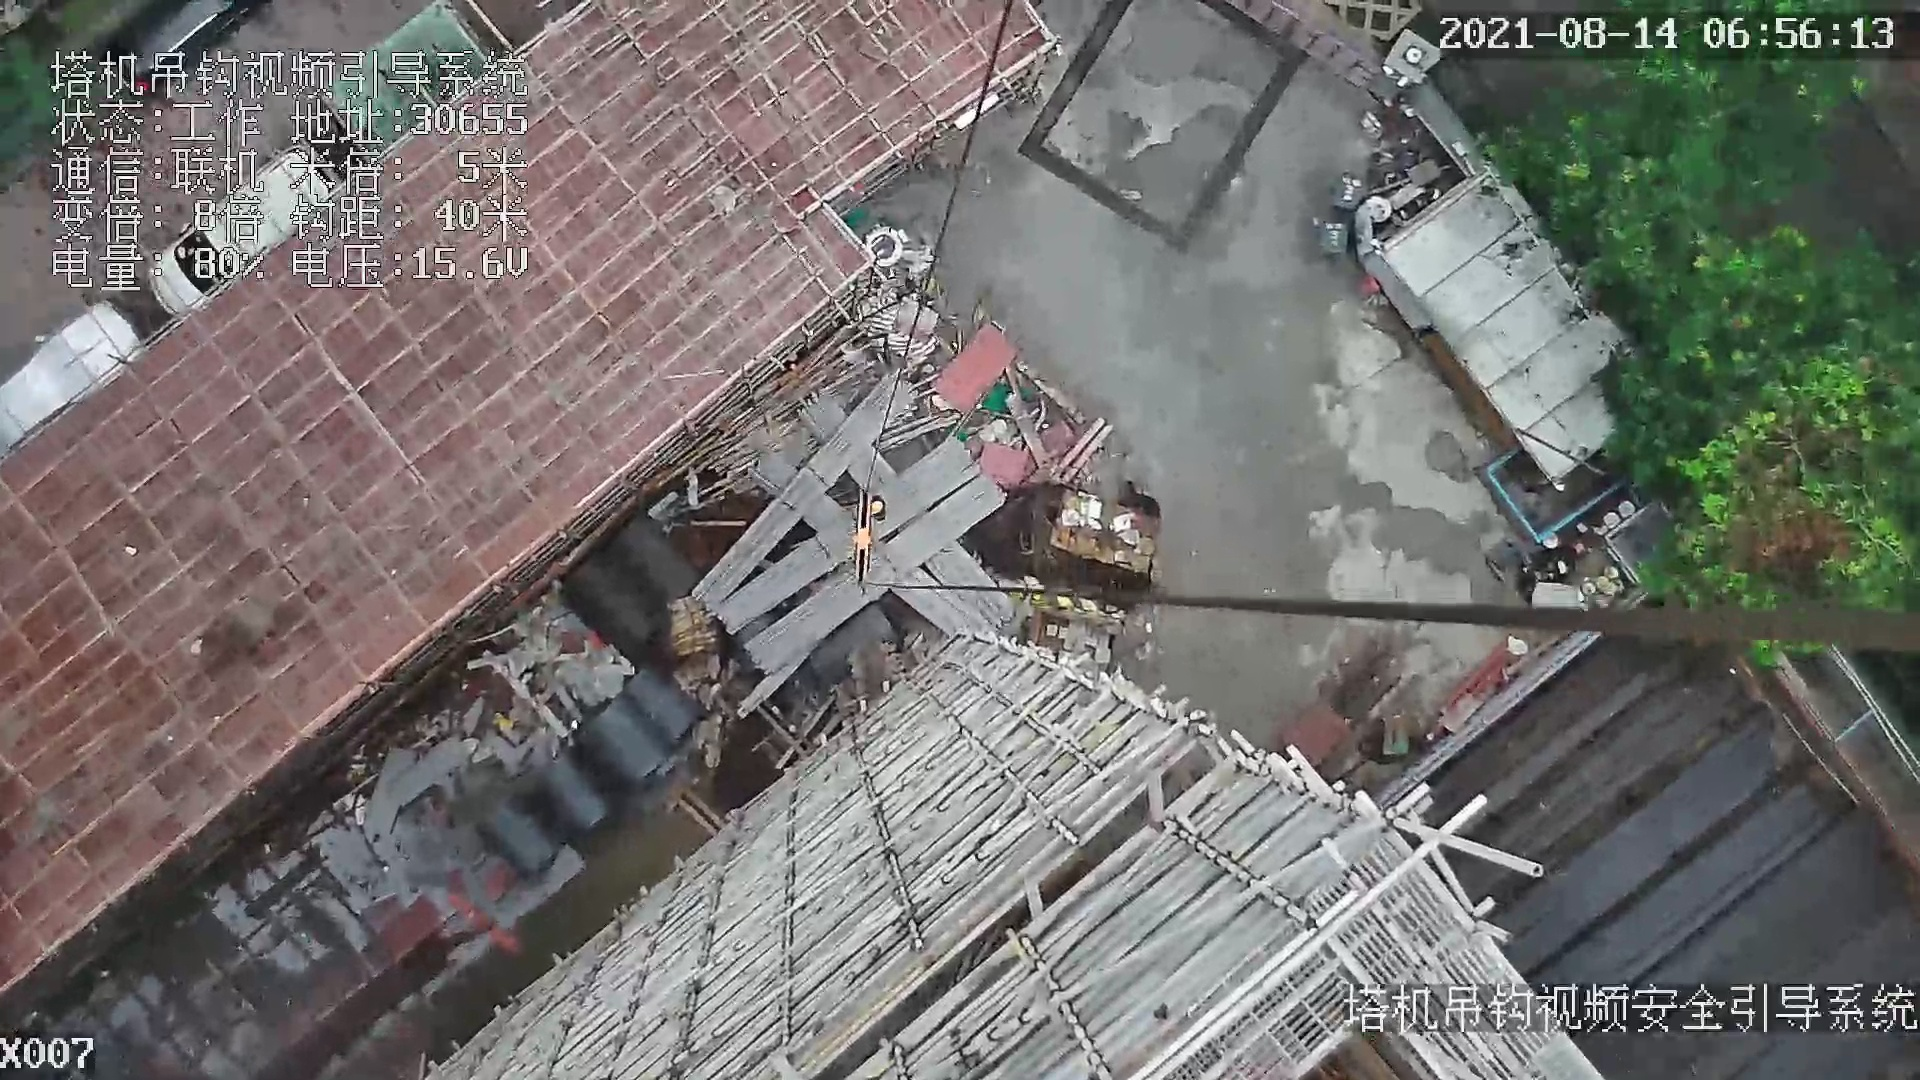helmet: (871, 501, 882, 514)
hook: (844, 474, 883, 583)
person: (871, 496, 888, 525)
rebar: (743, 476, 1008, 677), (714, 437, 979, 632), (693, 374, 912, 607), (926, 541, 1008, 619), (892, 568, 971, 637)
wood: (671, 611, 715, 655)
